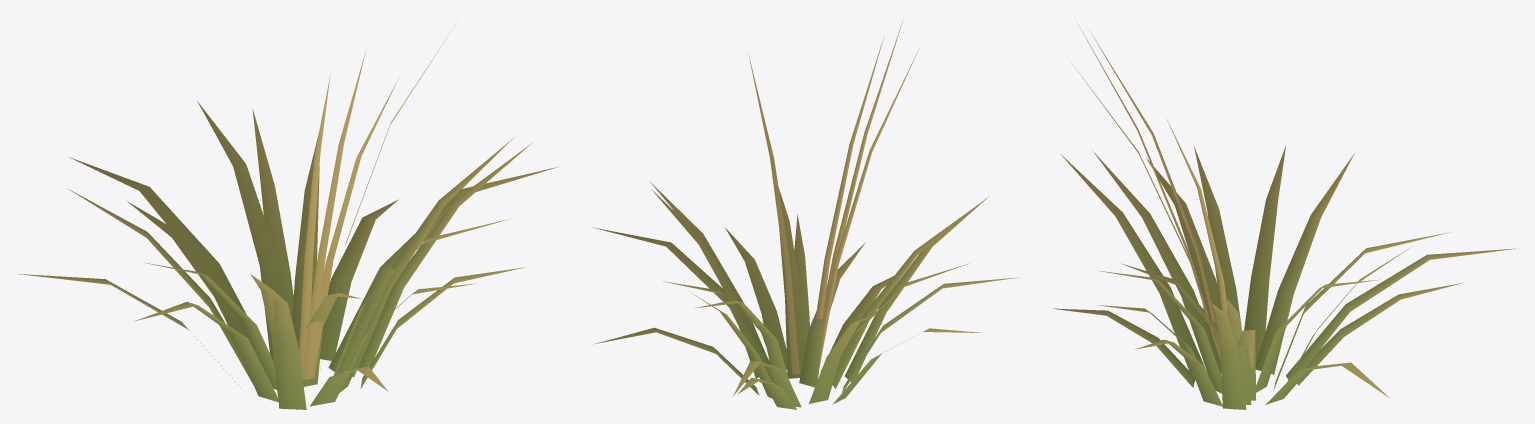
File: grass_tuft.glb
3 views of the same model, side by side, from view 1: azimuth 30°, elevation 25°; view 2: azimuth 150°, elevation 25°; view 3: azimuth 270°, elevation 25° (orthographic). The views are drawn at different scales.
Visible parts, largest first — view 1: grass_tuft; view 2: grass_tuft; view 3: grass_tuft.
Boxes of the visible parts, left/top/right/bottom form: grass_tuft: left=15, top=26, right=557, bottom=409; grass_tuft: left=592, top=19, right=1019, bottom=409; grass_tuft: left=1053, top=23, right=1518, bottom=409.
Bounding box in the file's own units: 1.54 × 1.16 × 1.38.
